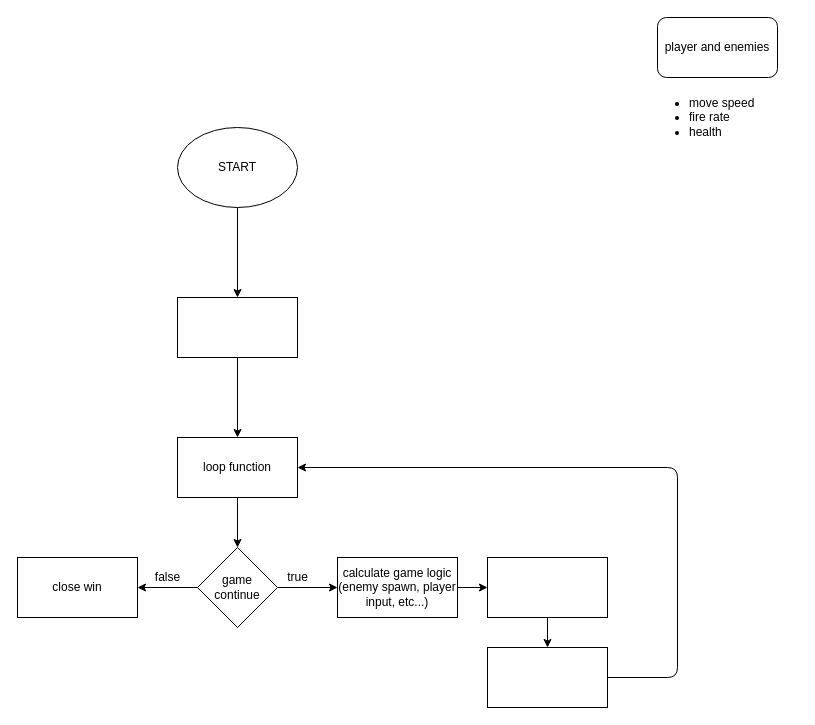
This 815x725 diagram has some shape labels left out. The shapes that lost their labels are listed below. From the top down, each one's box as (x1, y1, x2, y2) in pixels, then its label:
(176, 296, 298, 358): init ncurses
(486, 556, 608, 618): clear win and draw entities
(486, 646, 608, 708): draw hud (point, score etc...)
